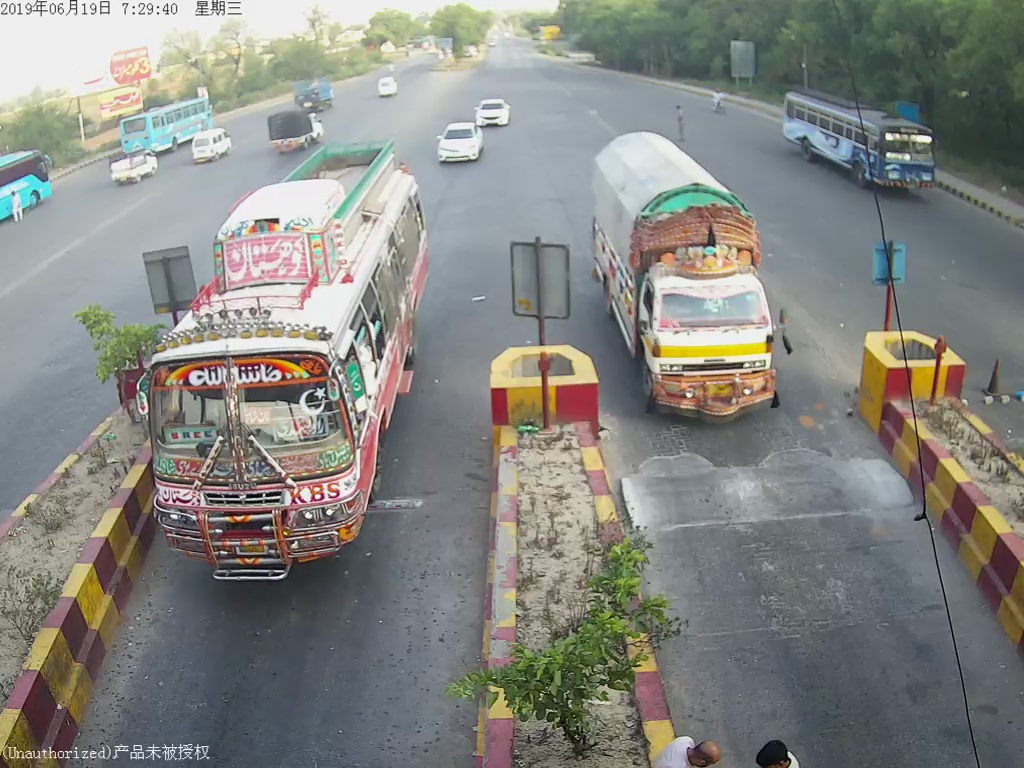Cat-1: (440, 117, 479, 167)
Cat-3: (143, 148, 434, 593)
Cat-4: (593, 124, 788, 417)
